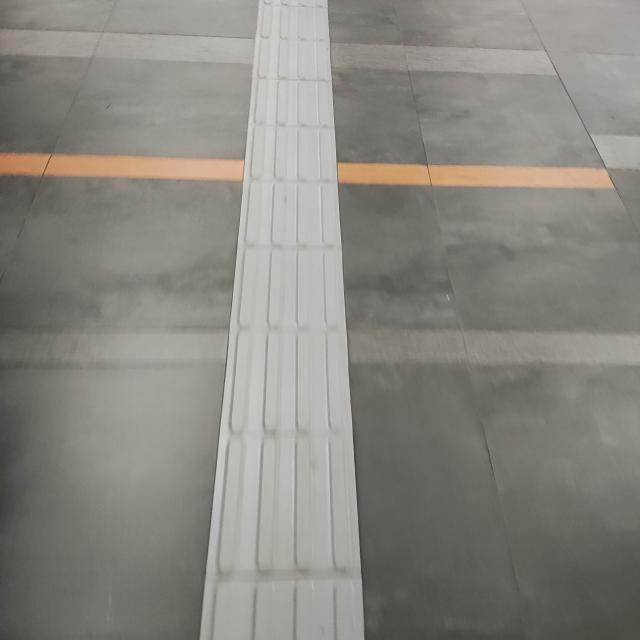lurus: (214, 0, 387, 640)
